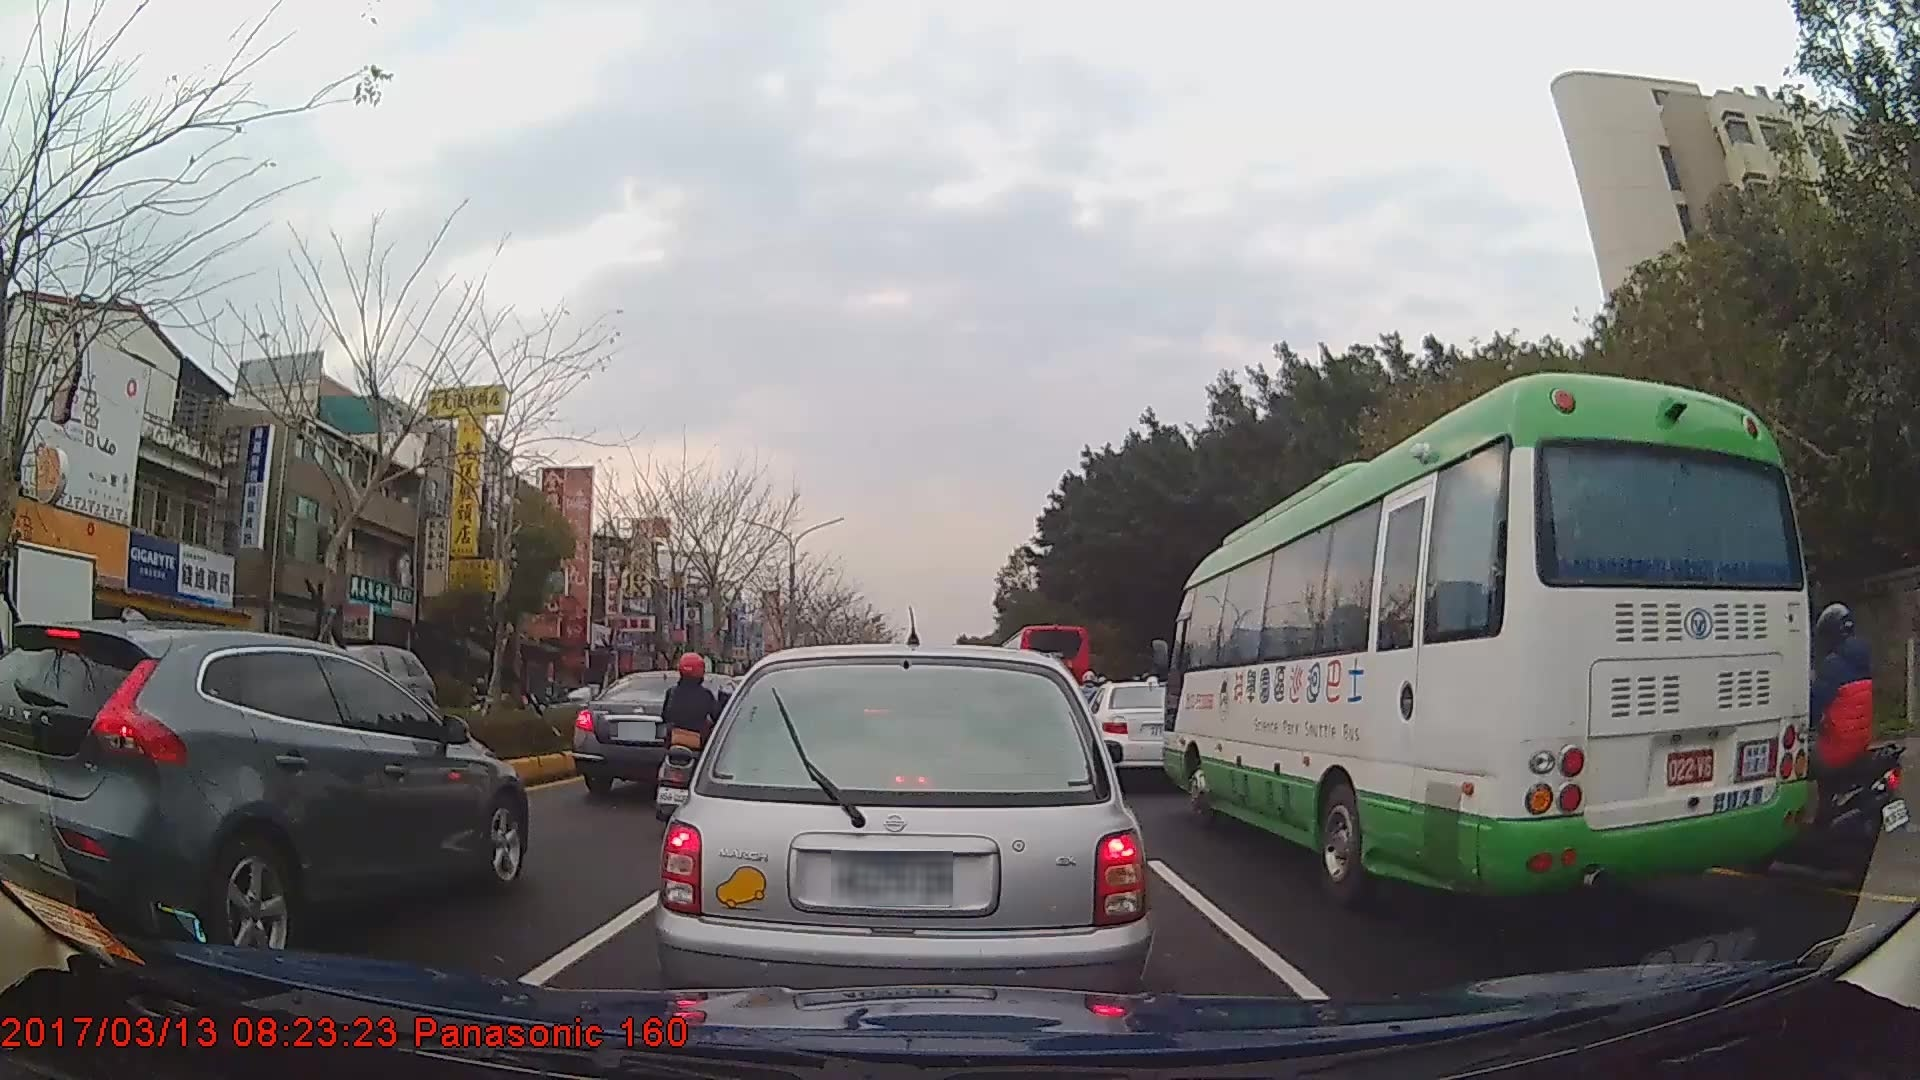scooter: (1756, 601, 1908, 876), (655, 650, 732, 825)
vehicle: (1160, 372, 1813, 906), (0, 618, 527, 969), (653, 644, 1150, 1010), (0, 527, 99, 880), (572, 670, 752, 796), (278, 636, 440, 758), (1080, 680, 1205, 789), (992, 621, 1091, 727)
